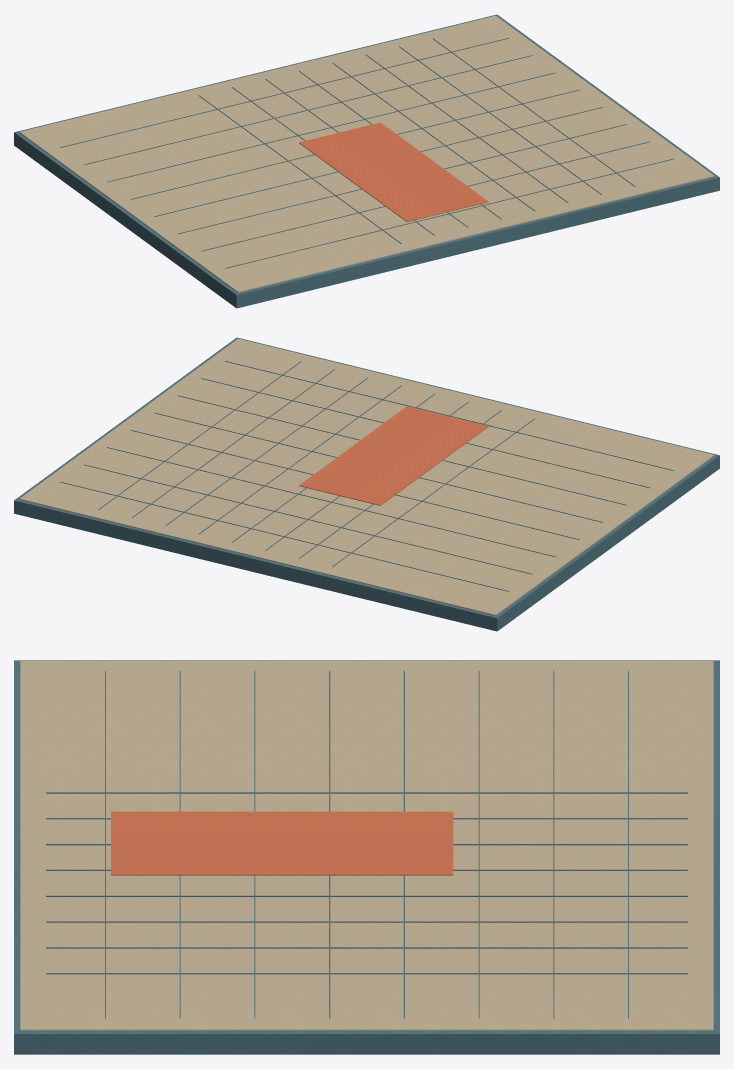
The model's file is atlas100-s044-a07.lod1.glb.
3 views of the same model, one above another, from view 1: azimuth 30°, elevation 25°; view 2: azimuth 150°, elevation 25°; view 3: azimuth 270°, elevation 25° (orthographic). The views are drawn at different scales.
Parts seen in each view (by area): view 1: atlas100-s044-a07:part-001, atlas100-s044-a07:part-000, atlas100-s044-a07:part-021, atlas100-s044-a07:part-015, atlas100-s044-a07:part-014, atlas100-s044-a07:part-013, atlas100-s044-a07:part-020, atlas100-s044-a07:part-019, atlas100-s044-a07:part-017, atlas100-s044-a07:part-016, atlas100-s044-a07:part-018; view 2: atlas100-s044-a07:part-001, atlas100-s044-a07:part-000, atlas100-s044-a07:part-021, atlas100-s044-a07:part-014, atlas100-s044-a07:part-013, atlas100-s044-a07:part-020, atlas100-s044-a07:part-015, atlas100-s044-a07:part-016, atlas100-s044-a07:part-019, atlas100-s044-a07:part-018, atlas100-s044-a07:part-017; view 3: atlas100-s044-a07:part-001, atlas100-s044-a07:part-000, atlas100-s044-a07:part-021, atlas100-s044-a07:part-005, atlas100-s044-a07:part-009, atlas100-s044-a07:part-010, atlas100-s044-a07:part-011, atlas100-s044-a07:part-012, atlas100-s044-a07:part-014, atlas100-s044-a07:part-015.
Boxes of the visible parts, x1,y1,x2,y2 form: atlas100-s044-a07:part-001: [19, 15, 714, 292]; atlas100-s044-a07:part-000: [14, 14, 719, 308]; atlas100-s044-a07:part-021: [299, 122, 488, 221]; atlas100-s044-a07:part-015: [107, 72, 555, 182]; atlas100-s044-a07:part-014: [84, 55, 532, 164]; atlas100-s044-a07:part-013: [60, 38, 508, 147]; atlas100-s044-a07:part-020: [225, 158, 673, 268]; atlas100-s044-a07:part-019: [201, 141, 650, 251]; atlas100-s044-a07:part-017: [154, 107, 603, 216]; atlas100-s044-a07:part-016: [130, 89, 579, 199]; atlas100-s044-a07:part-018: [178, 124, 626, 234]; atlas100-s044-a07:part-001: [19, 338, 714, 615]; atlas100-s044-a07:part-000: [14, 337, 719, 631]; atlas100-s044-a07:part-021: [299, 406, 488, 505]; atlas100-s044-a07:part-014: [83, 464, 532, 574]; atlas100-s044-a07:part-013: [60, 481, 508, 591]; atlas100-s044-a07:part-020: [225, 361, 673, 470]; atlas100-s044-a07:part-015: [107, 447, 555, 557]; atlas100-s044-a07:part-016: [130, 430, 579, 539]; atlas100-s044-a07:part-019: [201, 378, 649, 487]; atlas100-s044-a07:part-018: [178, 395, 626, 505]; atlas100-s044-a07:part-017: [154, 412, 603, 522]; atlas100-s044-a07:part-001: [20, 661, 713, 1030]; atlas100-s044-a07:part-000: [14, 660, 719, 1054]; atlas100-s044-a07:part-021: [111, 811, 453, 875]; atlas100-s044-a07:part-005: [46, 792, 687, 793]; atlas100-s044-a07:part-009: [46, 895, 687, 896]; atlas100-s044-a07:part-010: [46, 921, 687, 922]; atlas100-s044-a07:part-011: [46, 947, 687, 948]; atlas100-s044-a07:part-012: [46, 973, 687, 974]; atlas100-s044-a07:part-014: [553, 670, 554, 1018]; atlas100-s044-a07:part-015: [478, 670, 479, 1018].
Size of the model in its own units: 13.02 by 0.404 by 10.4.
3 materials, 3 textured.
